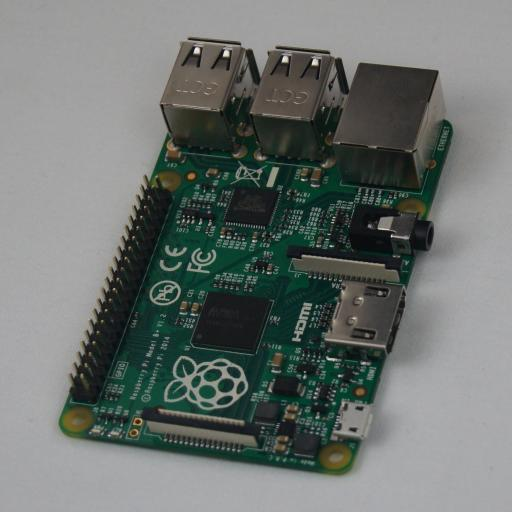Raspberry Pi 1 B-: (59, 38, 453, 475)
